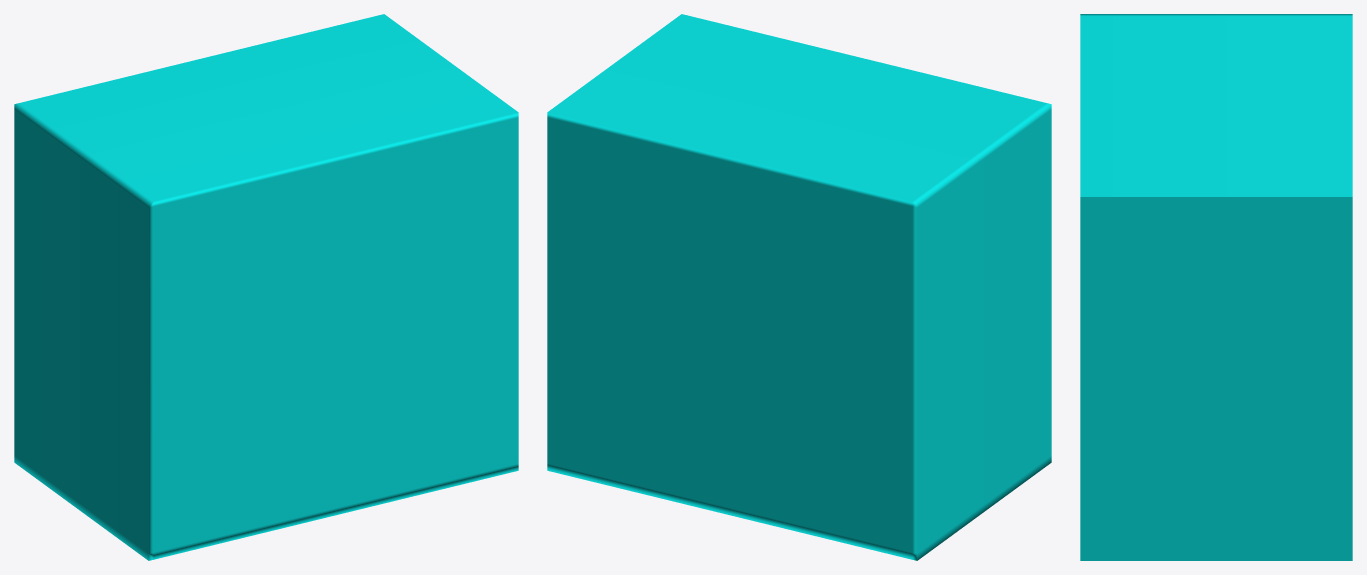
The model's file is Book_Multi_04.fbx.
The picture shows the model from 3 angles, left to right: view 1: azimuth 30°, elevation 25°; view 2: azimuth 150°, elevation 25°; view 3: azimuth 270°, elevation 25°; orthographic projection.
Parts seen in each view (by area): view 1: Book_Multi_04; view 2: Book_Multi_04; view 3: Book_Multi_04.
Boxes of the visible parts, box(x1,y1,x2,y2) form: Book_Multi_04: box(14, 14, 518, 560); Book_Multi_04: box(547, 14, 1051, 560); Book_Multi_04: box(1080, 14, 1352, 560).
Size of the model in its own units: 34.05 by 31.55 by 21.42.
